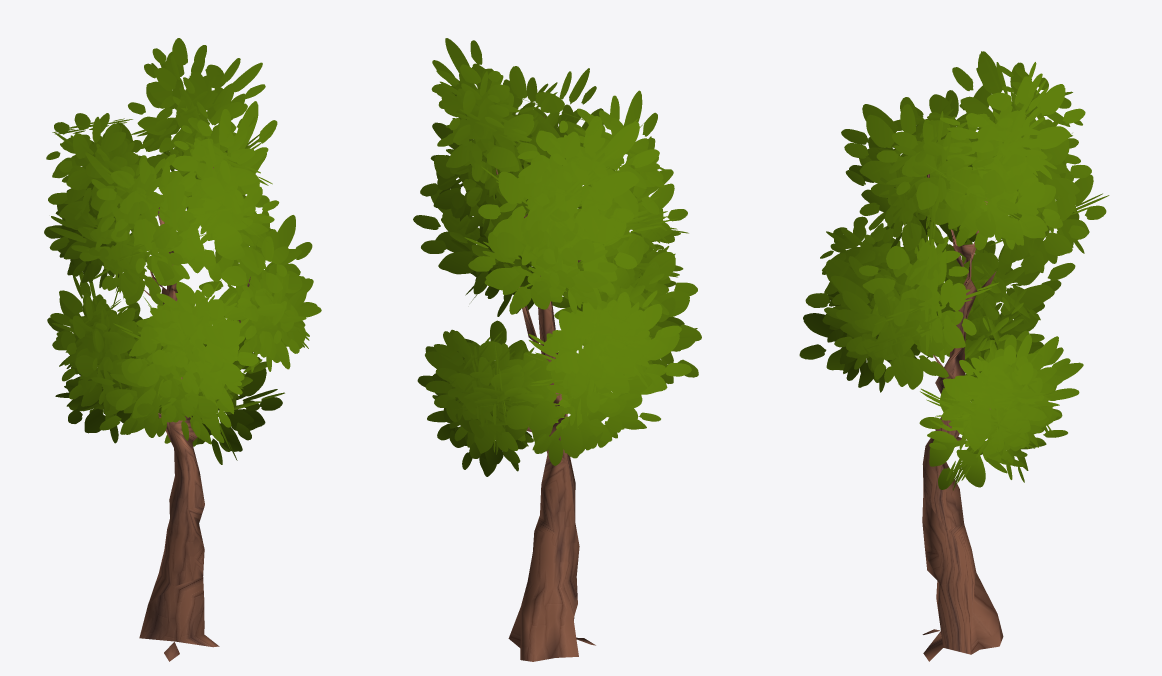
Rendered from CommonTree_3_L.gltf.
3 renders of one model, left to right at view 1: azimuth 30°, elevation 25°; view 2: azimuth 150°, elevation 25°; view 3: azimuth 270°, elevation 25°, orthographic. The views are drawn at different scales.
Parts seen in each view (by area): view 1: CommonTree_3_L; view 2: CommonTree_3_L; view 3: CommonTree_3_L.
Boxes of the visible parts, <box> form: CommonTree_3_L: <box>44,38,321,661</box>; CommonTree_3_L: <box>413,38,701,661</box>; CommonTree_3_L: <box>799,51,1109,661</box>.
Bounding box in the file's own units: 5.23 × 9.73 × 5.38.
2 materials, 2 textured.
